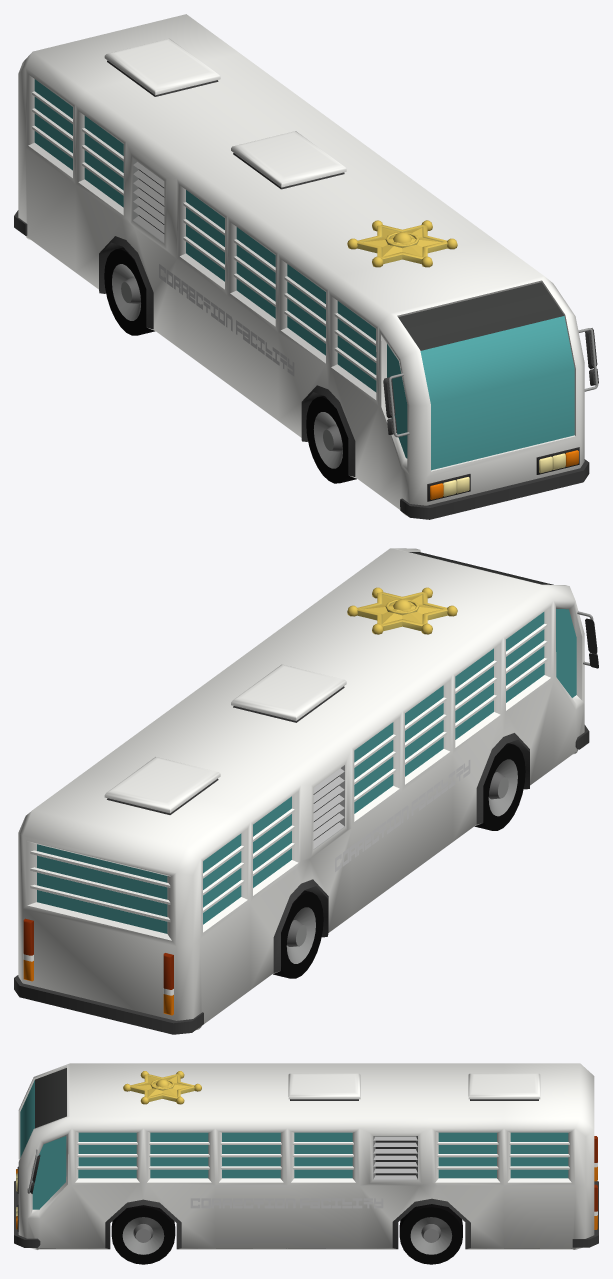
The model's file is Bus.fbx.
3 views of the same model, one above another, from view 1: azimuth 30°, elevation 25°; view 2: azimuth 150°, elevation 25°; view 3: azimuth 270°, elevation 25° (orthographic). The views are drawn at different scales.
Visible parts, largest first — view 1: body, WheelRR, WheelFR, Text; view 2: body, WheelRR, WheelFR, Text; view 3: body, WheelRL, WheelFL, Text.
Boxes of the visible parts, box(x1,y1,x2,y2) form: body: box(14, 14, 598, 519); WheelRR: box(104, 247, 155, 335); WheelFR: box(306, 395, 356, 483); Text: box(159, 264, 294, 376); body: box(14, 548, 598, 1034); WheelRR: box(273, 890, 323, 978); WheelFR: box(474, 743, 525, 830); Text: box(335, 760, 470, 871); body: box(14, 1063, 598, 1249); WheelRL: box(399, 1204, 462, 1264); WheelFL: box(111, 1205, 175, 1264); Text: box(190, 1198, 383, 1208).
Size of the model in its own units: 4.82 by 4.73 by 16.25.
